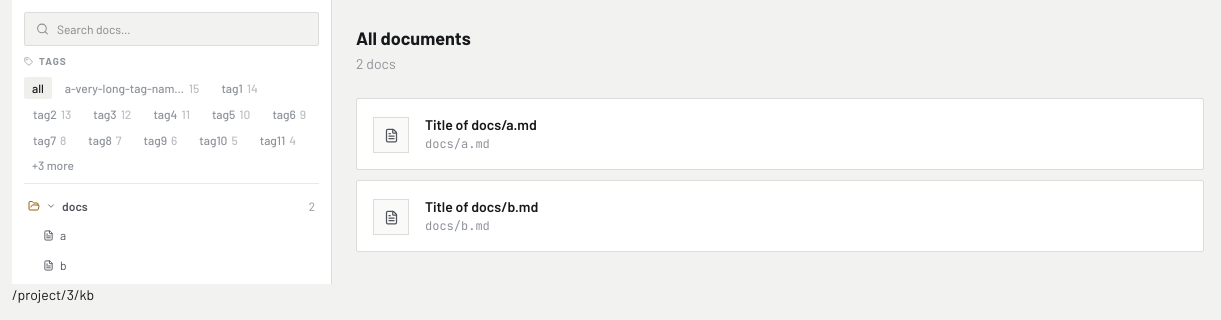
Scenario: Library URL state › clicking a tag writes ?tag
What coordinates should you click on to do the following:
click the text "tag2"
I would click on:
 (45, 114)
Its box is [33,106,57,122].
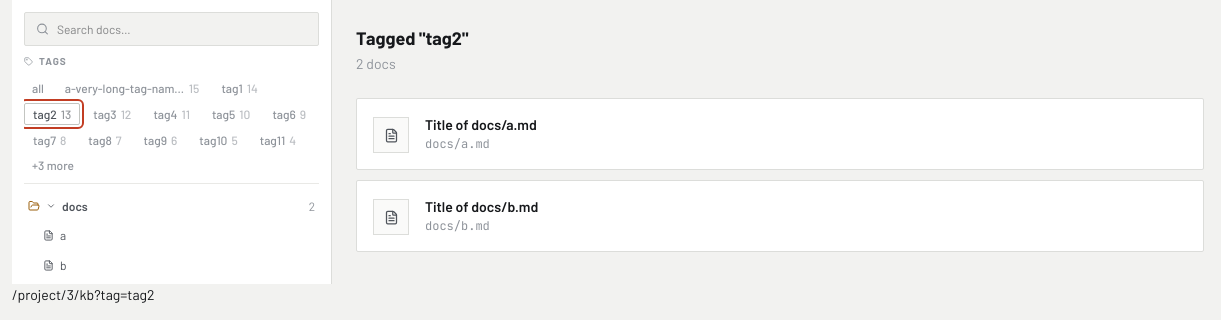
Expected: the text with test id "url" reads "/project/3/kb?tag=tag2", [12,286,155,303]
